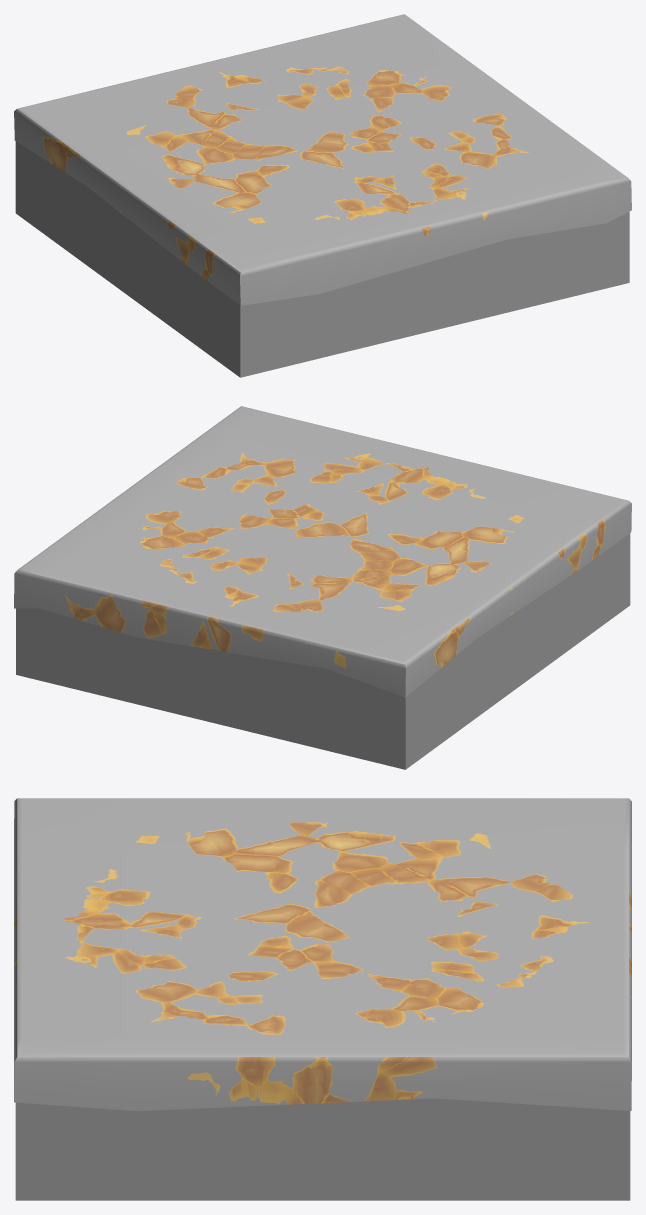
Rendered from Grass_Block.fbx.
3 views of the same model, one above another, from view 1: azimuth 30°, elevation 25°; view 2: azimuth 150°, elevation 25°; view 3: azimuth 270°, elevation 25° (orthographic). The views are drawn at different scales.
Visible parts, largest first — view 1: Grass_Block; view 2: Grass_Block; view 3: Grass_Block.
Boxes of the visible parts, x1,y1,x2,y2 form: Grass_Block: (14, 14, 631, 377); Grass_Block: (14, 406, 631, 769); Grass_Block: (14, 798, 631, 1200).
Size of the model in its own units: 4.03 by 1.04 by 4.02.
